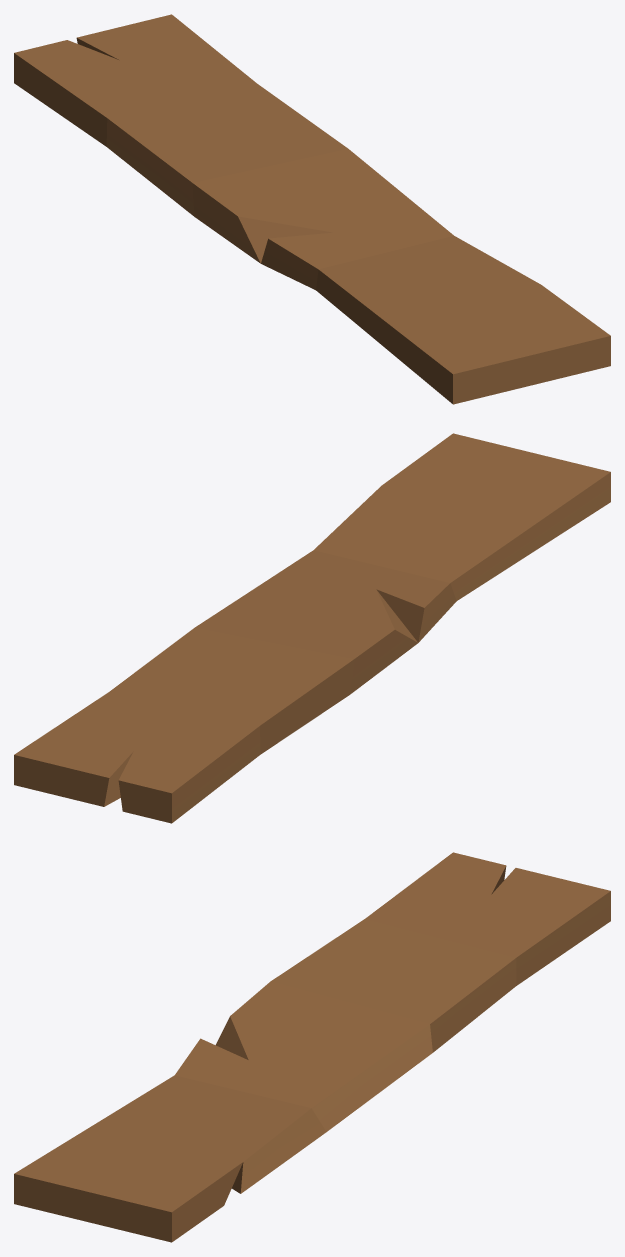
The model's file is Planche2.fbx.
3 renders of one model, top to bottom at view 1: azimuth 30°, elevation 25°; view 2: azimuth 150°, elevation 25°; view 3: azimuth 330°, elevation 25°, orthographic.
Parts seen in each view (by area): view 1: Planche2; view 2: Planche2; view 3: Planche2.
Part boxes in pixels (x1=…): Planche2: x1=14, y1=14, x2=610, y2=404; Planche2: x1=14, y1=433, x2=610, y2=823; Planche2: x1=14, y1=852, x2=610, y2=1242.
Bounding box in the file's own units: 44.29 × 8.97 × 200.
